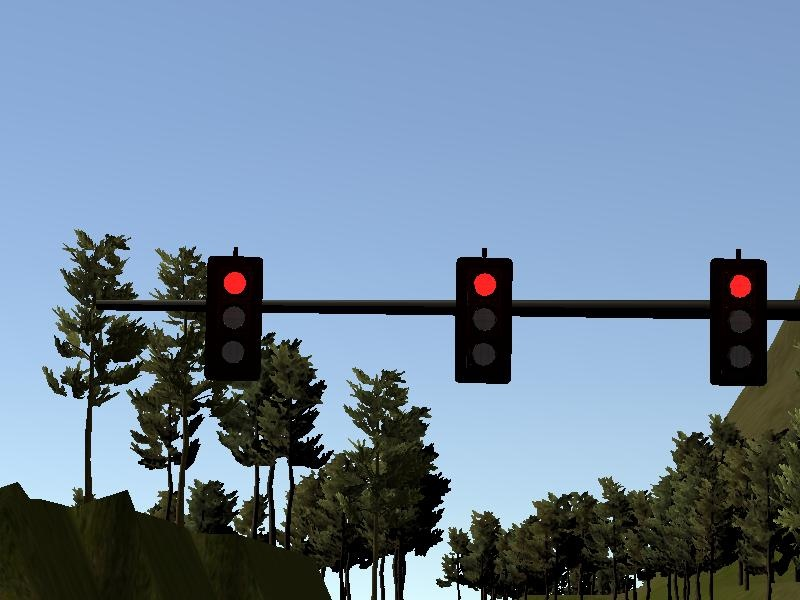red: (707, 252, 772, 389), (451, 251, 515, 389), (204, 251, 266, 385)
